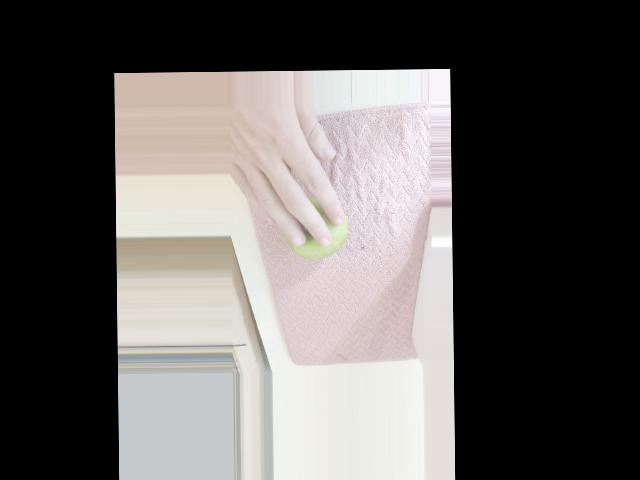apple: (271, 180, 350, 261)
